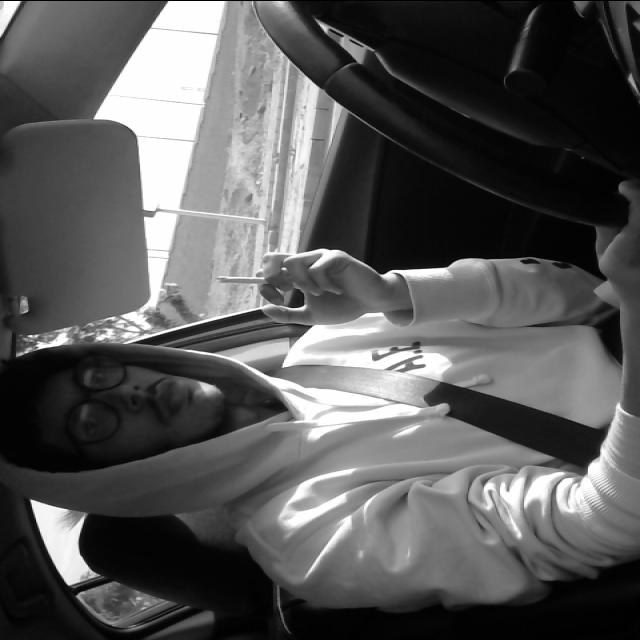smoking: (208, 268, 316, 286)
